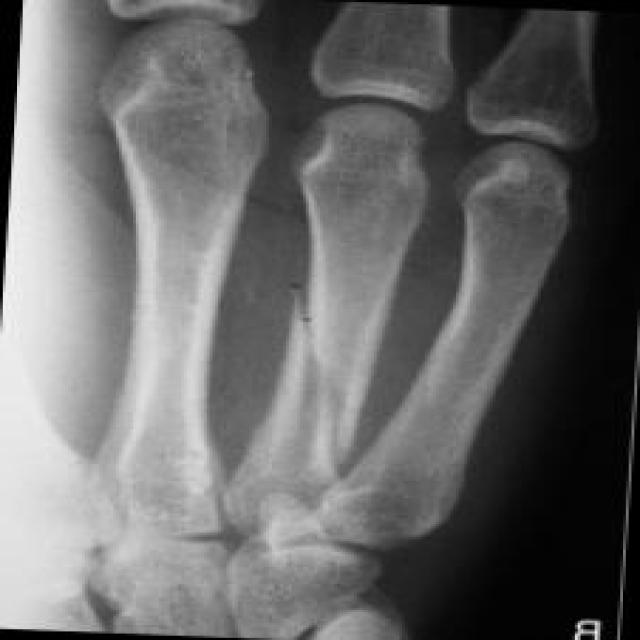Oblique Displaced: (278, 278, 377, 499)
